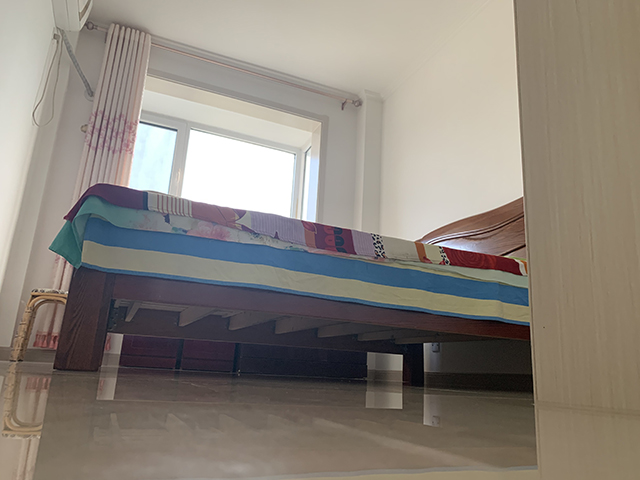bed: (47, 182, 536, 386)
cabinet: (511, 1, 639, 419)
curtain: (30, 19, 154, 355)
stool: (8, 287, 69, 364)
